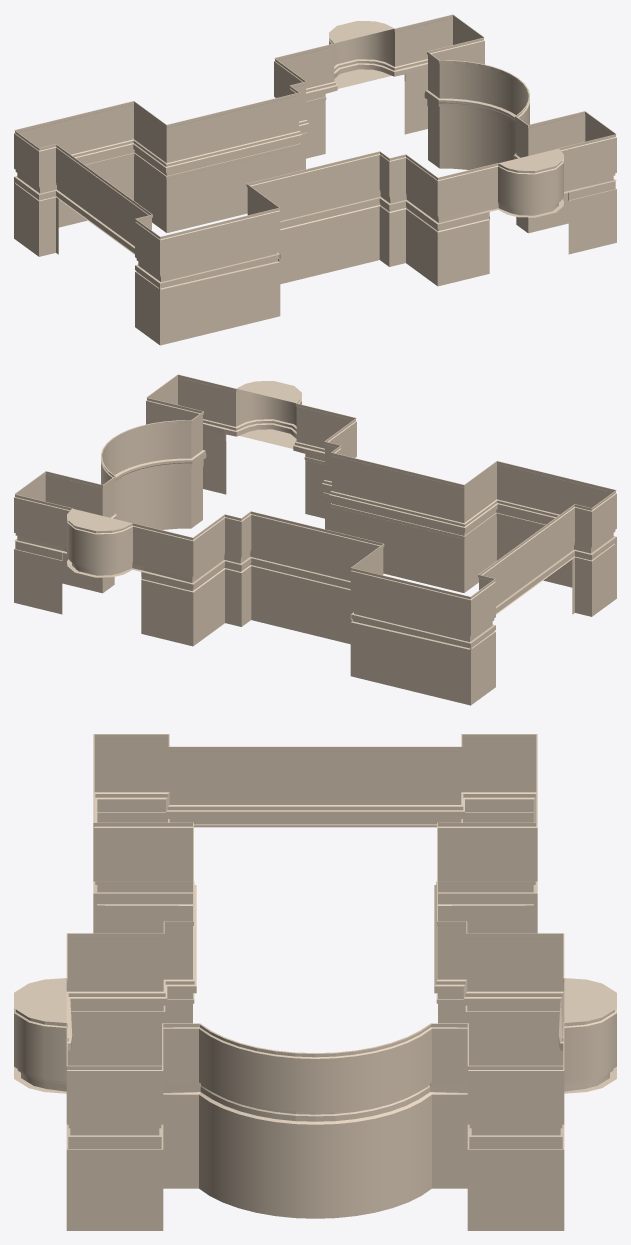
The model's file is BC_InsideWall_A.fbx.
3 renders of one model, top to bottom at view 1: azimuth 30°, elevation 25°; view 2: azimuth 150°, elevation 25°; view 3: azimuth 270°, elevation 25°, orthographic. The views are drawn at different scales.
Parts seen in each view (by area): view 1: BC_InsideWall_A; view 2: BC_InsideWall_A; view 3: BC_InsideWall_A.
Part boxes in pixels (x1,y1,x2,y2): BC_InsideWall_A: (14, 14, 616, 345); BC_InsideWall_A: (14, 374, 616, 705); BC_InsideWall_A: (14, 734, 616, 1230).
Size of the model in its own units: 9232 by 2135 by 7084.
